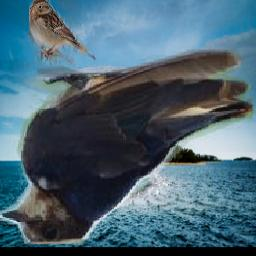Sparrow: (30, 0, 103, 66)
Swallow: (0, 50, 254, 244)
